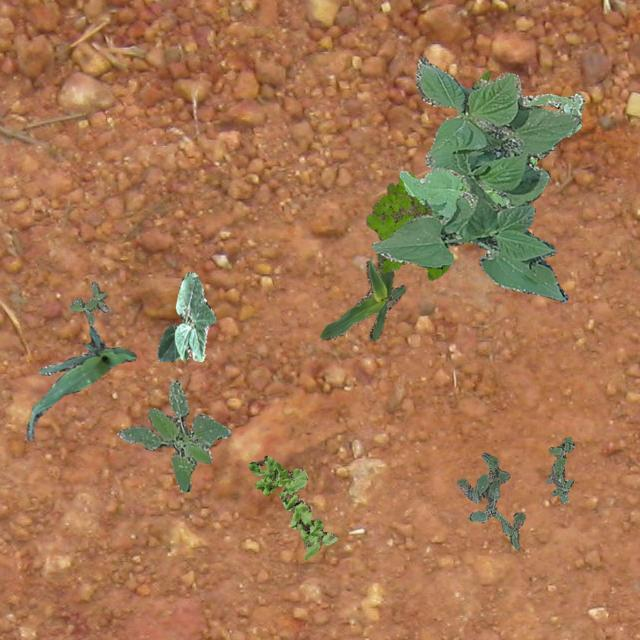crop: (370, 55, 580, 302), (26, 324, 136, 440), (320, 250, 404, 340), (156, 270, 214, 360), (472, 70, 488, 86)
weed: (398, 91, 584, 220), (118, 379, 230, 492), (248, 454, 338, 558), (366, 178, 448, 278), (456, 452, 524, 550), (544, 436, 574, 502), (68, 280, 108, 324)
